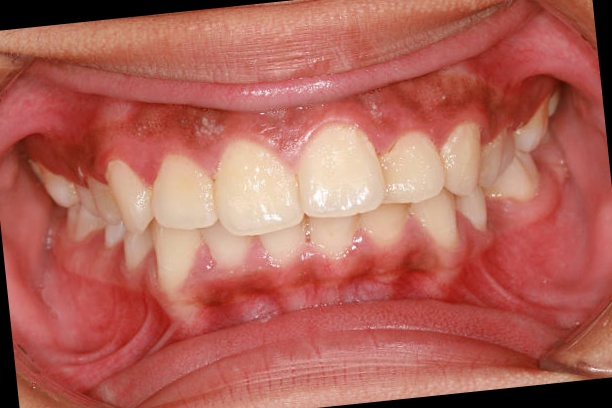Gingivitis: (184, 239, 436, 322), (111, 95, 229, 158), (365, 80, 481, 134)
